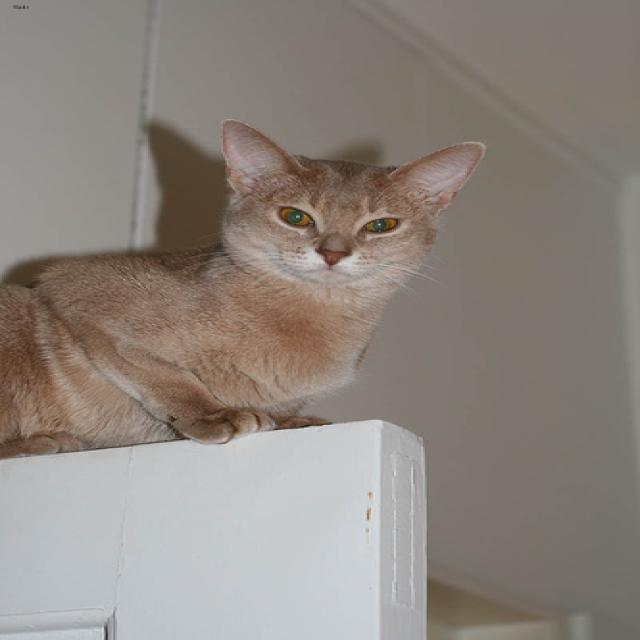Abyssinian: (218, 119, 483, 285)
